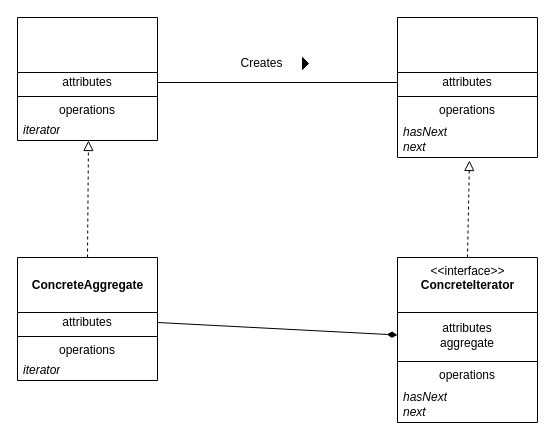
The diagram is 555 pixels wide and 440 high, and some of its shapes have lost their labels. Here are the shapes that lost their labels. From the top down, the box of each, then its label:
(16, 16, 158, 140): <<interface>> Aggregate
(396, 16, 538, 158): <<interface>> Iterator
